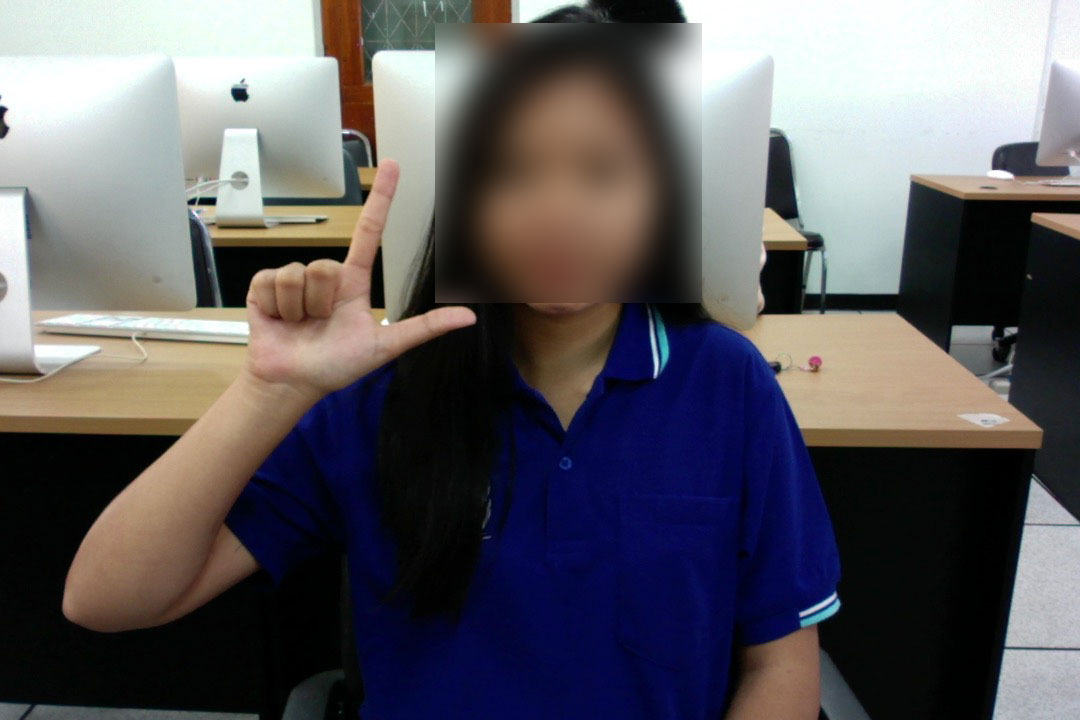lor: (209, 147, 494, 393)
